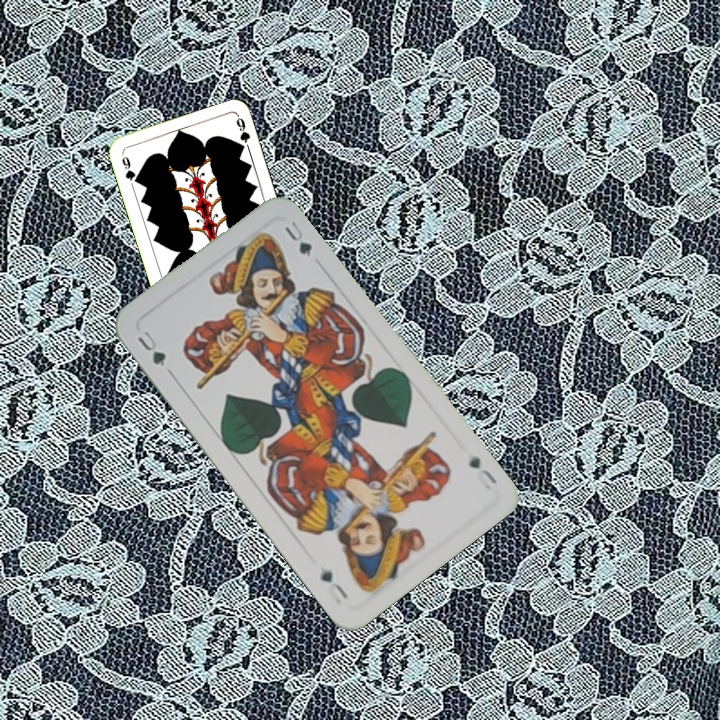G9: (118, 150, 141, 186)
GU: (133, 327, 175, 377), (465, 451, 500, 487)
